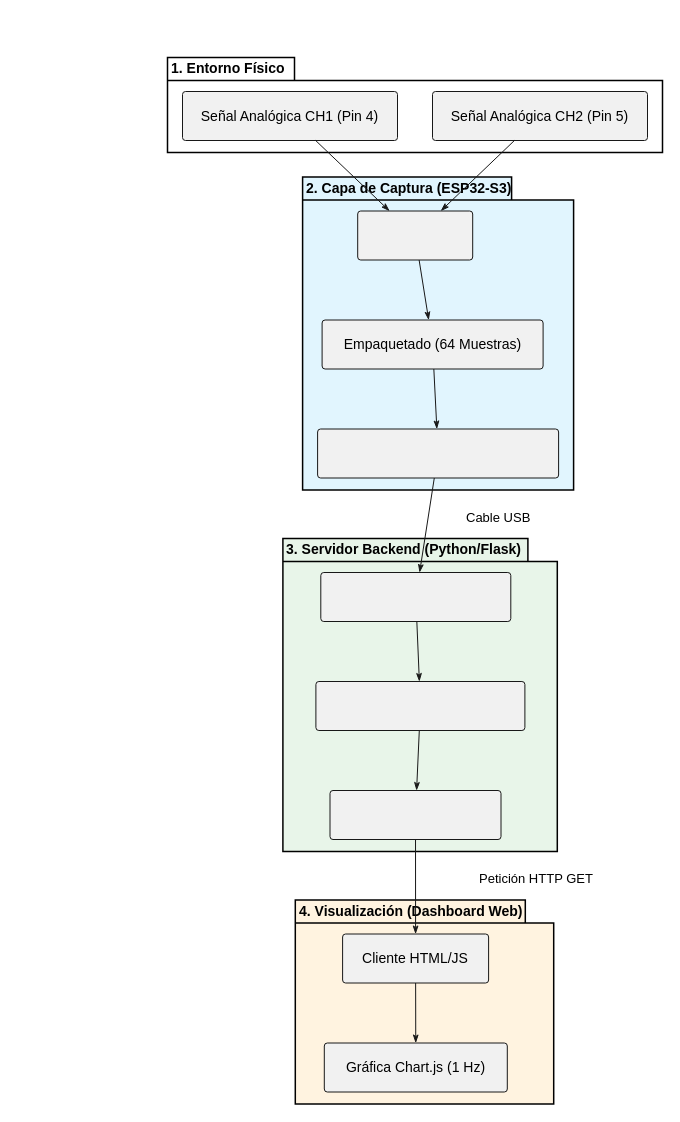
The diagram is 680 pixels wide and 1122 high, and some of its shapes have lost their labels. Each missing label, with the centre of its shape:
"ADC 12-bits" belongs at pixel 415 235.
"API REST (/api/data)" belongs at pixel 415 815.
"Desempaquetado de Datos" belongs at pixel 420 705.
"Receptor Serial (COM5)" belongs at pixel 415 597.
"Transmisor UART (115200 bps)" belongs at pixel 438 453.
